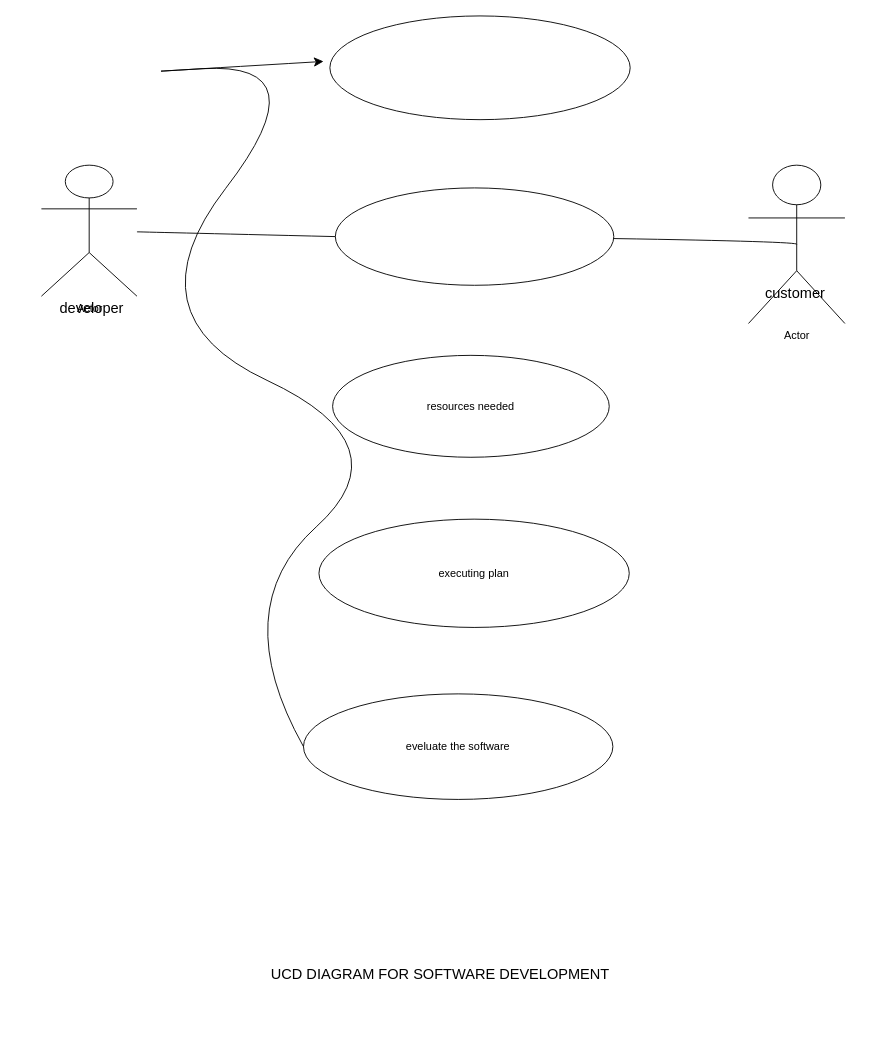
This 880x1047 diagram has some shape labels left out. The shapes that lost their labels are listed below. From the top down, each one's centre as x and y in pixels, then its label:
[479,67]: orders a software
[474,236]: annalyze requirements
